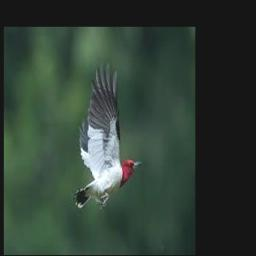Woodpecker: (72, 62, 141, 209)
